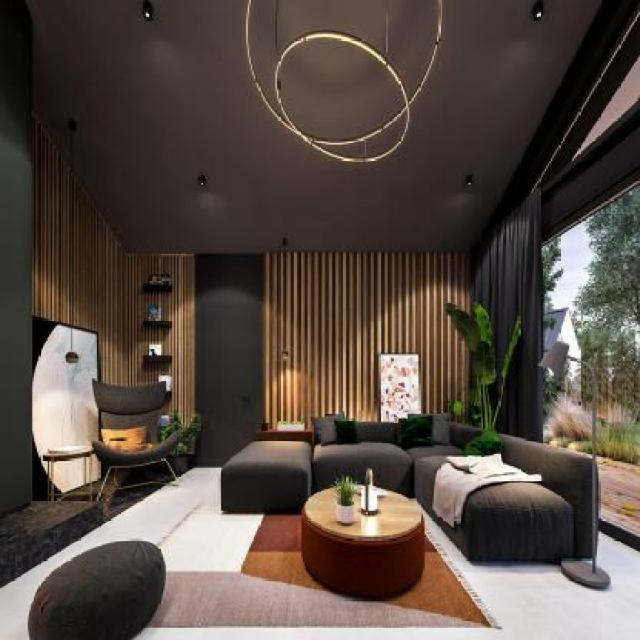Floor: (133, 499, 640, 639), (0, 467, 222, 639), (116, 471, 150, 488), (98, 472, 117, 501), (147, 470, 178, 484), (91, 476, 106, 501)
